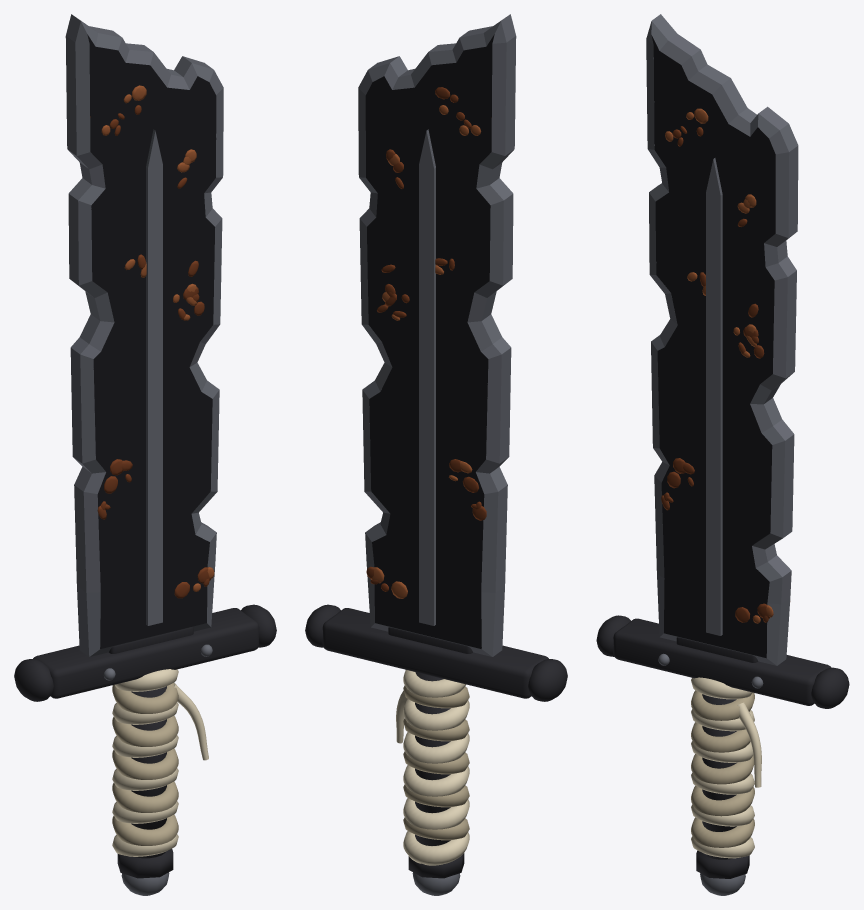
Rendered from demon_slayer_sword.glb.
The picture shows the model from 3 angles, left to right: view 1: azimuth 30°, elevation 25°; view 2: azimuth 150°, elevation 25°; view 3: azimuth 330°, elevation 25°; orthographic projection. The views are drawn at different scales.
Visible parts, largest first — view 1: demon_slayer_sword; view 2: demon_slayer_sword; view 3: demon_slayer_sword.
Boxes of the visible parts, x1,y1,x2,y2 form: demon_slayer_sword: [14, 14, 276, 895]; demon_slayer_sword: [305, 14, 567, 895]; demon_slayer_sword: [596, 14, 849, 895].
Size of the model in its own units: 0.2959 by 1 by 0.0662.
